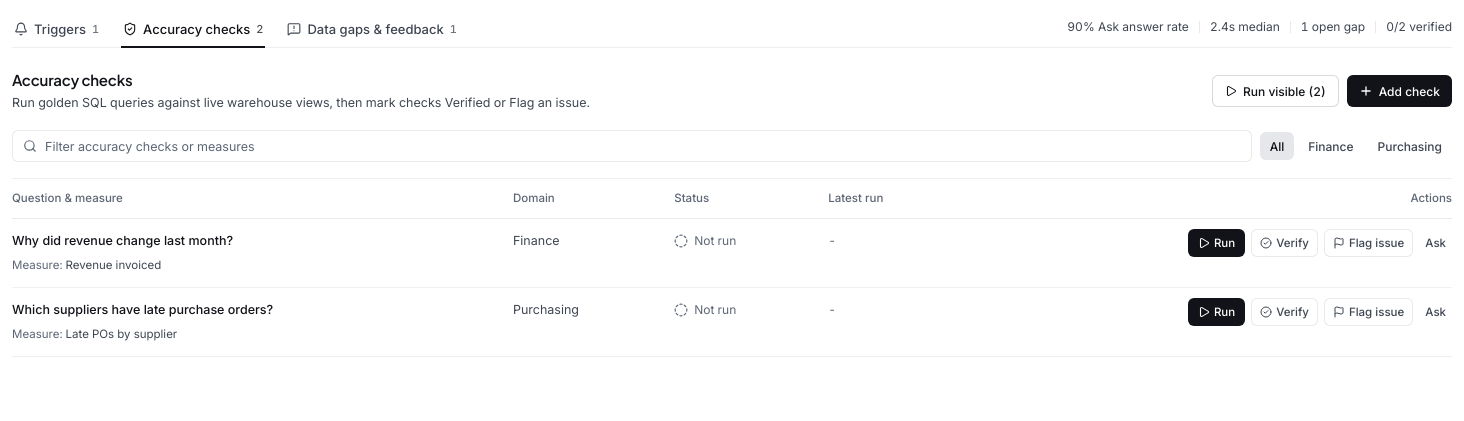
Scenario: BenchmarksPanel › starts accuracy checks honestly as Not run (never fake Checked), executes real Run, and supports Verify / Flag issue
Expected: the text with test id "bench-kpi-accuracy" shows "90%", [1067,19,1189,34]
Expected: the cell with test id "check-status-measure_check_revenue" reads "Not run", [694,233,736,248]
Step 1. Click the button with test id "run-check-measure_check_revenue" → x=1217, y=243, box [1188,229,1245,257]
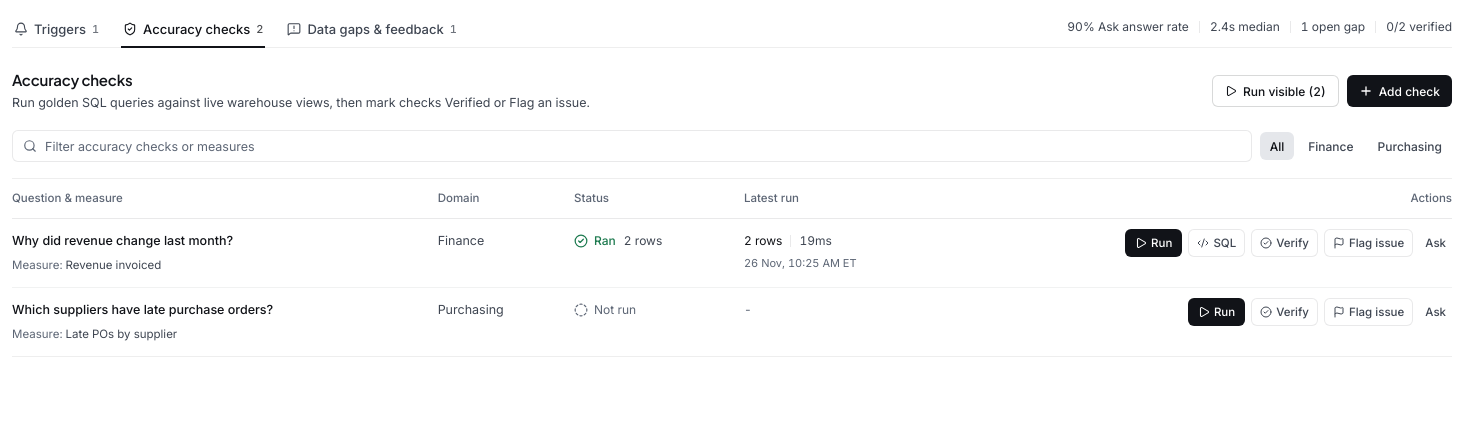
Expected: the cell with test id "check-status-measure_check_revenue" shows "Ran", [594,233,616,248]
Expected: the cell with test id "check-run-meta-measure_check_revenue" shows "2 rows", [732,218,939,288]
Note: Verify and Flag issue actions
Step 2. Click the button with test id "verify-check-measure_check_revenue" → x=1285, y=243, box [1251,229,1318,257]
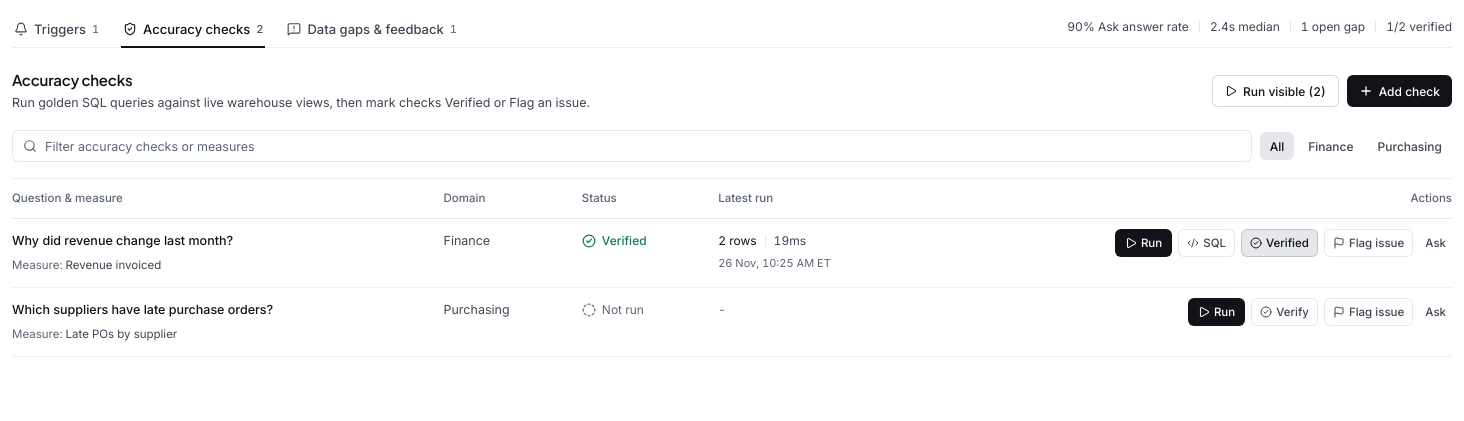
Expected: the cell with test id "check-status-measure_check_revenue" reads "Verified", [602,233,647,248]
Step 3. Click the button with test id "flag-check-measure_check_revenue" → x=1369, y=243, box [1324,229,1413,257]
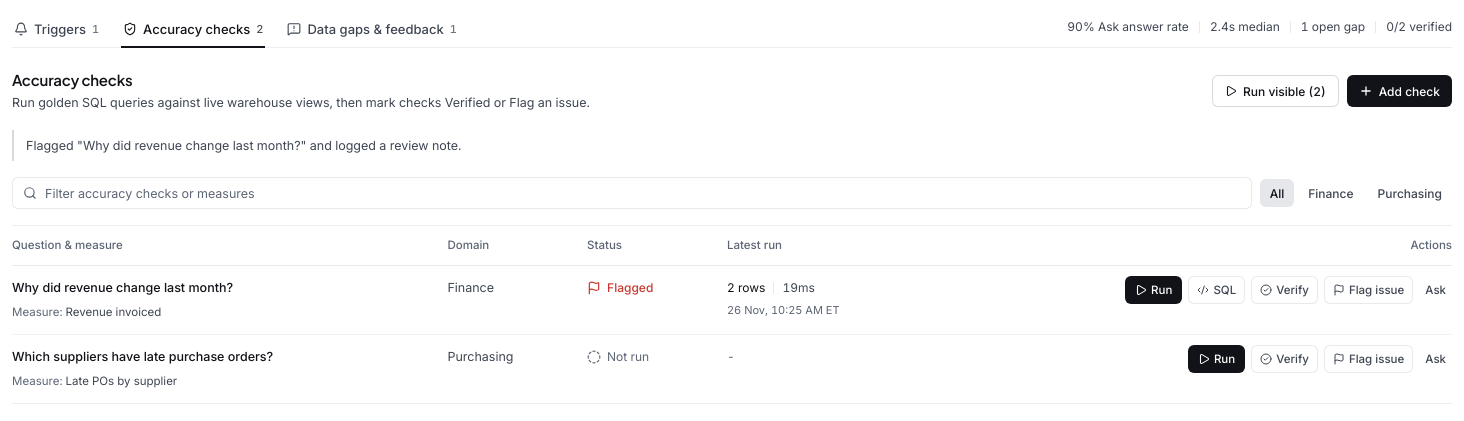
Expected: the cell with test id "check-status-measure_check_revenue" reads "Flagged", [607,280,653,295]
